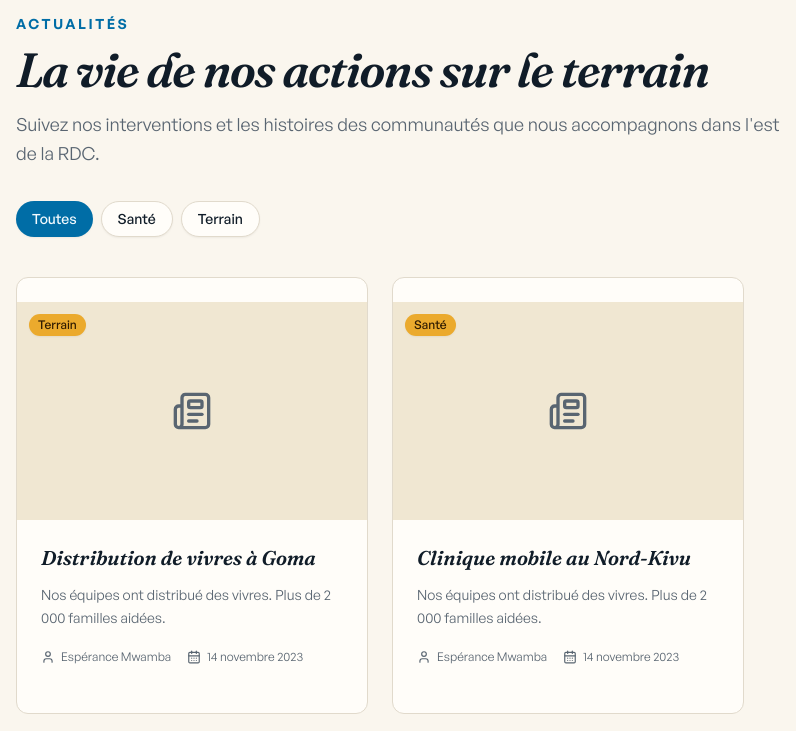
Test: BlogPage › filters articles by category and keeps the filter in the URL
Check: the heading "Distribution de vivres à Goma" is shown, box left=41, top=544, right=343, bottom=572
Check: the heading "Clinique mobile au Nord-Kivu" is shown, box left=417, top=544, right=719, bottom=572
Click the button with test id "blog.filter.tab.santé": (137, 218) left=101, top=200, right=173, bottom=236
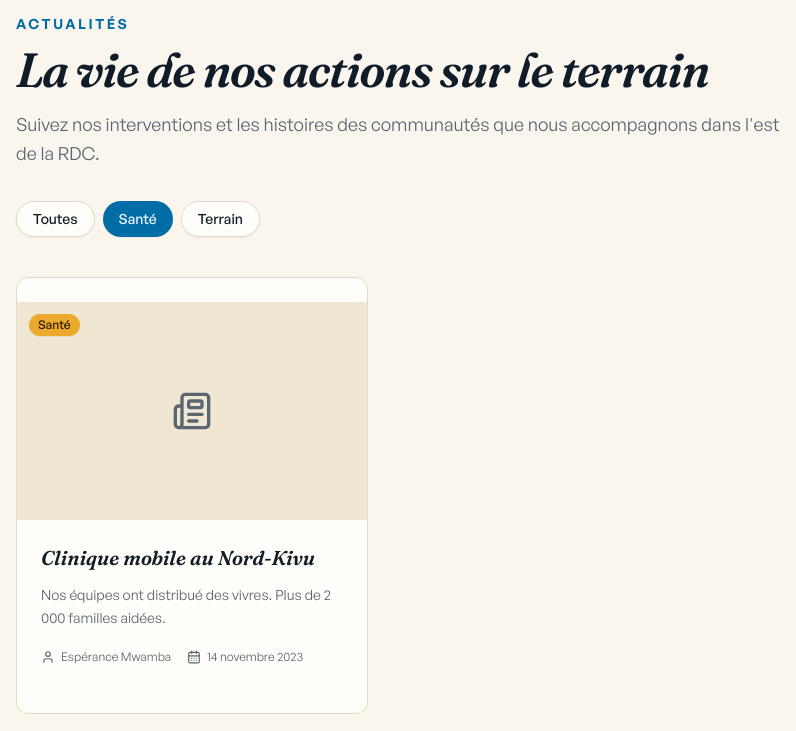
Check: the heading "Clinique mobile au Nord-Kivu" is shown, box left=41, top=544, right=343, bottom=572
Check: the link "Distribution de vivres à Goma" is gone
